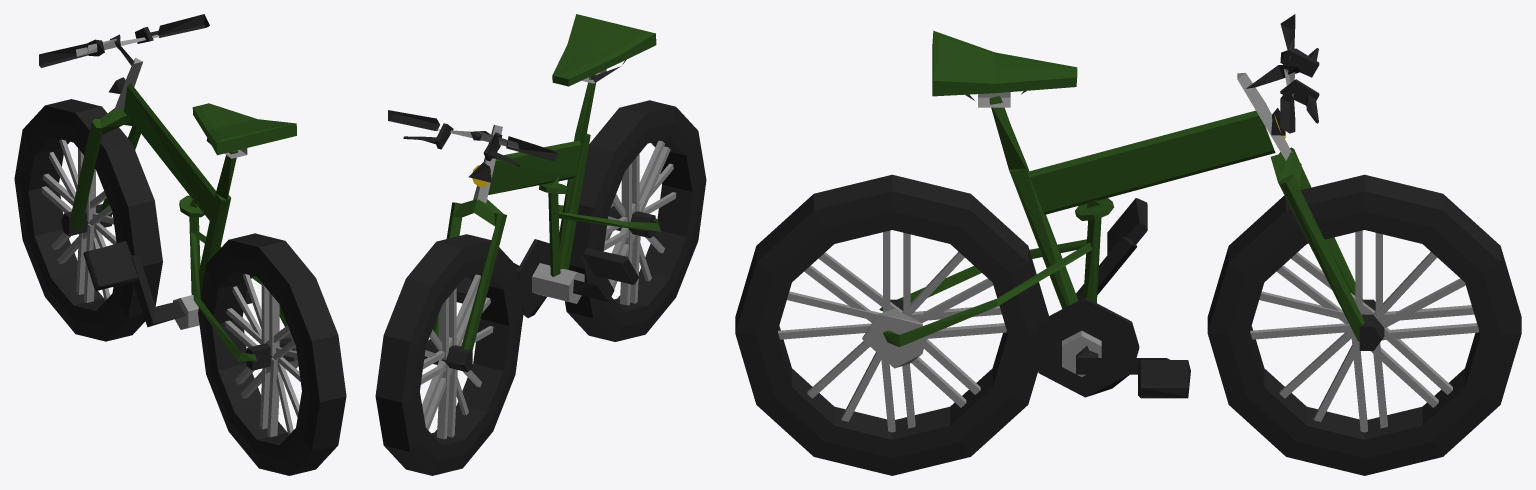
The model's file is Bike.glb.
3 views of the same model, side by side, from view 1: azimuth 30°, elevation 25°; view 2: azimuth 150°, elevation 25°; view 3: azimuth 270°, elevation 25° (orthographic). The views are drawn at different scales.
Visible parts, largest first — view 1: Bike; view 2: Bike; view 3: Bike.
Part boxes in pixels (x1,y1,x2,y2): Bike: [14, 14, 346, 475]; Bike: [375, 14, 706, 475]; Bike: [735, 14, 1521, 475].
Bounding box in the file's own units: 1.68 × 2.79 × 4.83.
